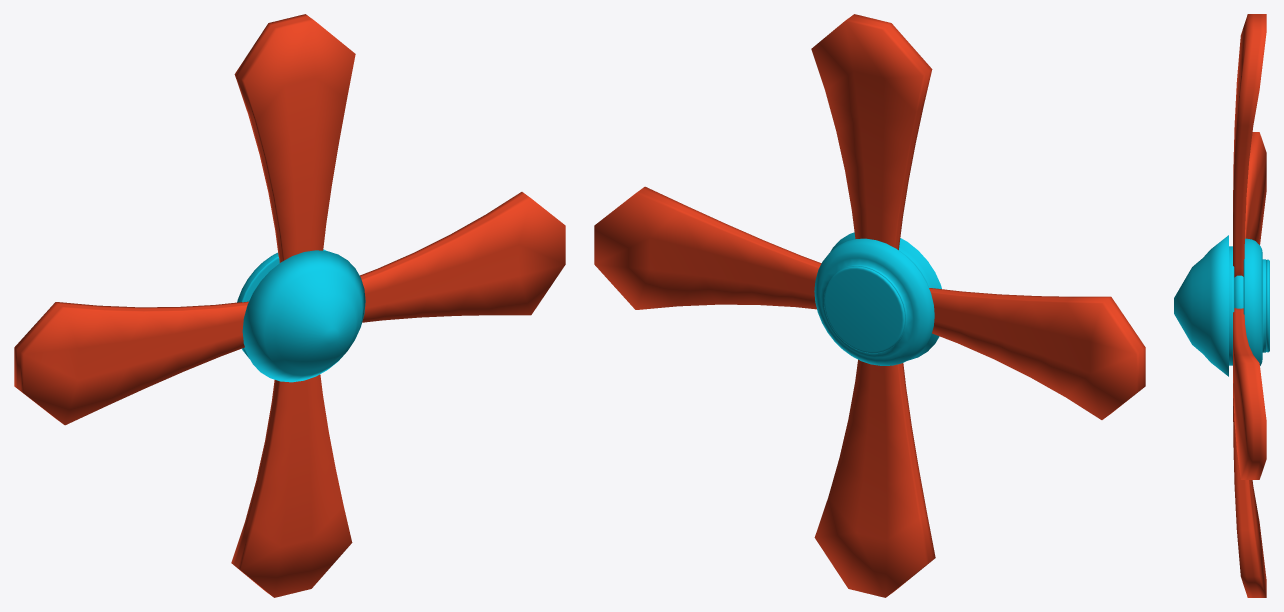
Rendered from fan4.fbx.
3 views of the same model, side by side, from view 1: azimuth 30°, elevation 25°; view 2: azimuth 150°, elevation 25°; view 3: azimuth 270°, elevation 25° (orthographic).
Parts seen in each view (by area): view 1: Cartoon_Ceiling_Fan04; view 2: Cartoon_Ceiling_Fan04; view 3: Cartoon_Ceiling_Fan04.
Boxes of the visible parts, box(x1,y1,x2,y2) form: Cartoon_Ceiling_Fan04: box(14, 14, 565, 597); Cartoon_Ceiling_Fan04: box(594, 14, 1145, 597); Cartoon_Ceiling_Fan04: box(1174, 14, 1269, 597).
Bounding box in the file's own units: 93.49 × 93.49 × 14.32.
